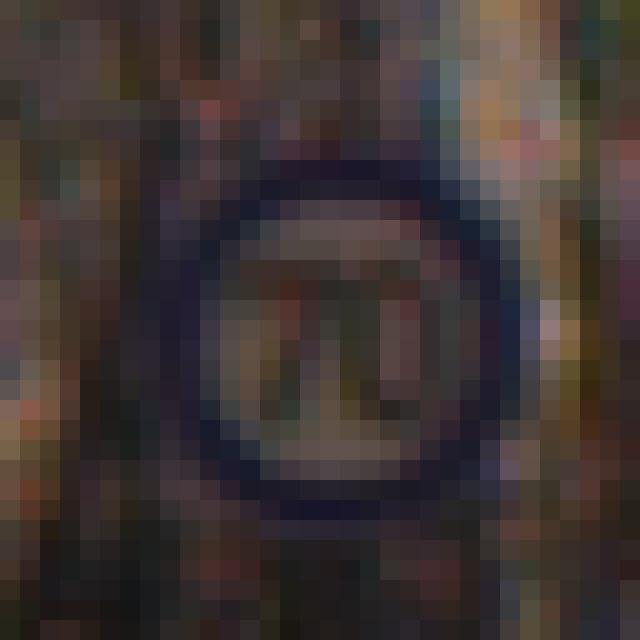SPEED LIMIT 70: (162, 149, 538, 532)
